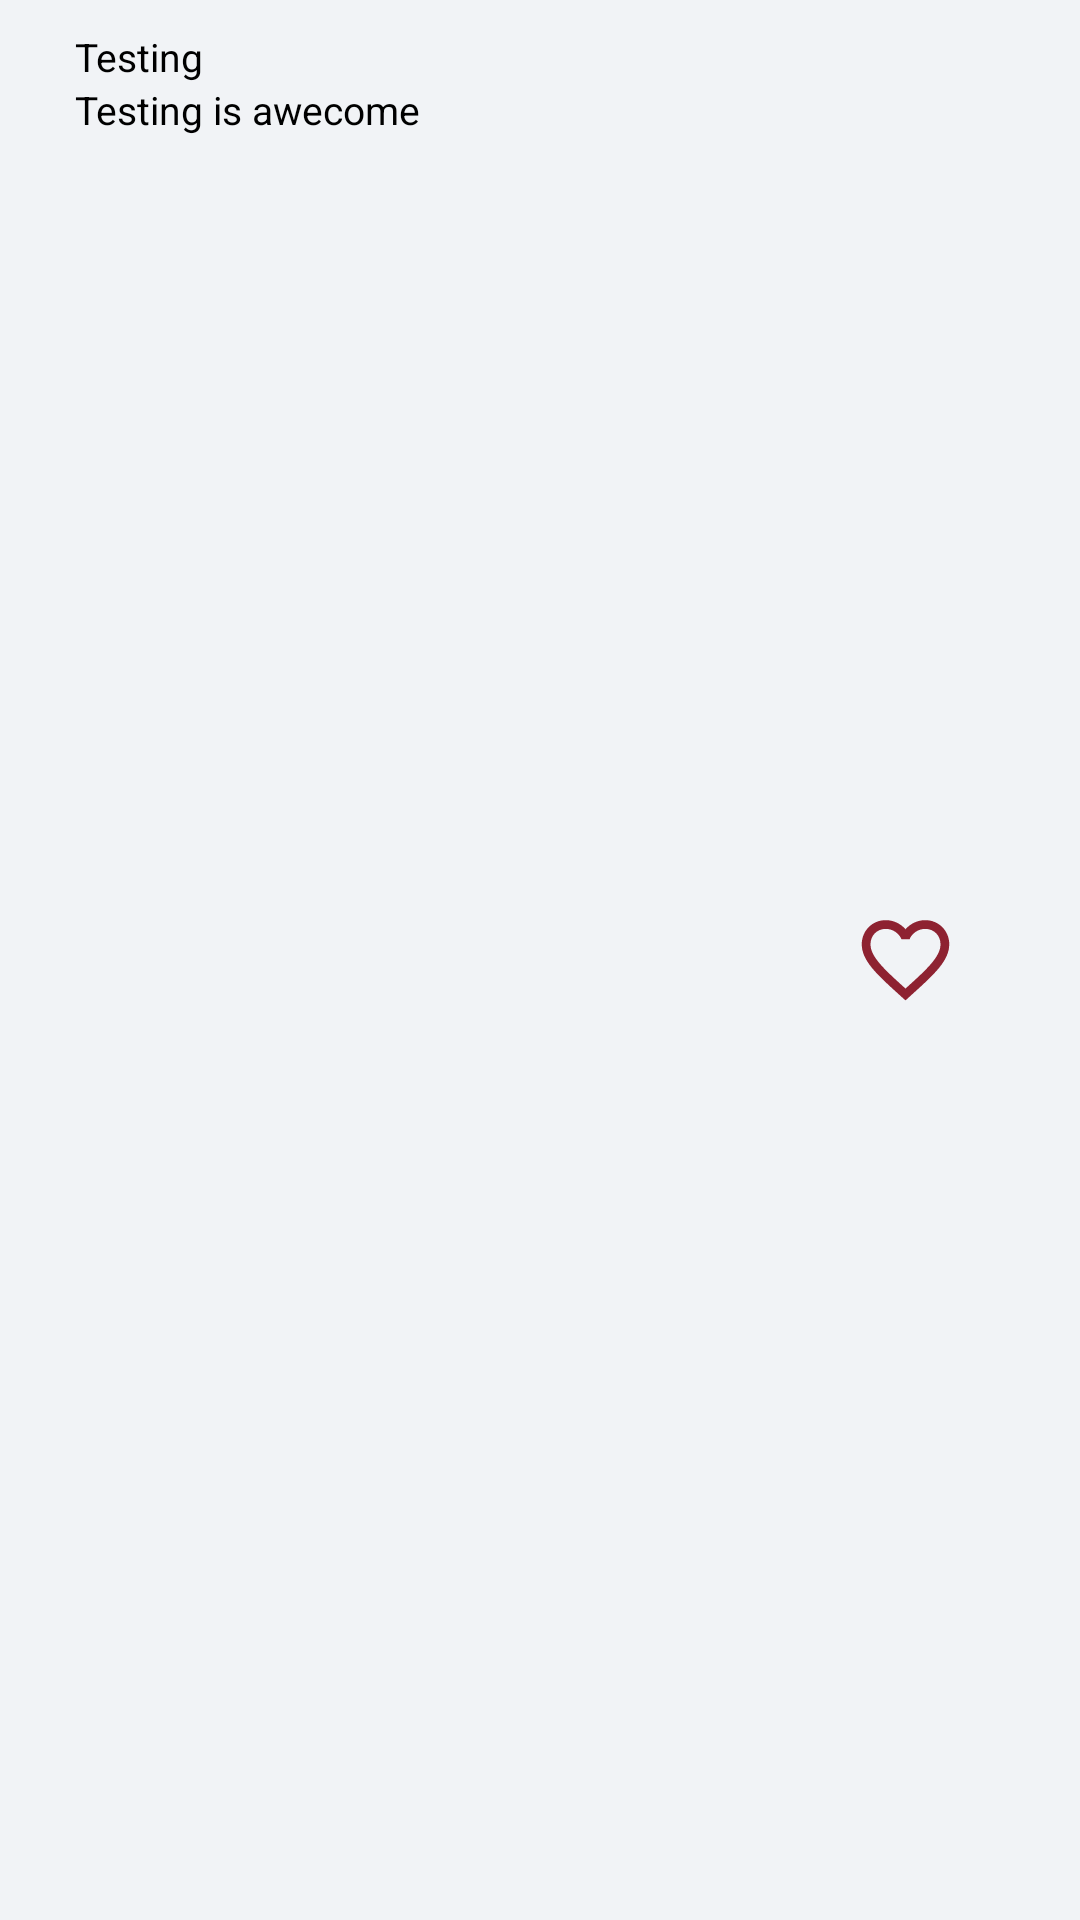

Icons on this 1080px×1920px Android screen, each with the point to tap as (x,y):
favorite border: (905,960)
